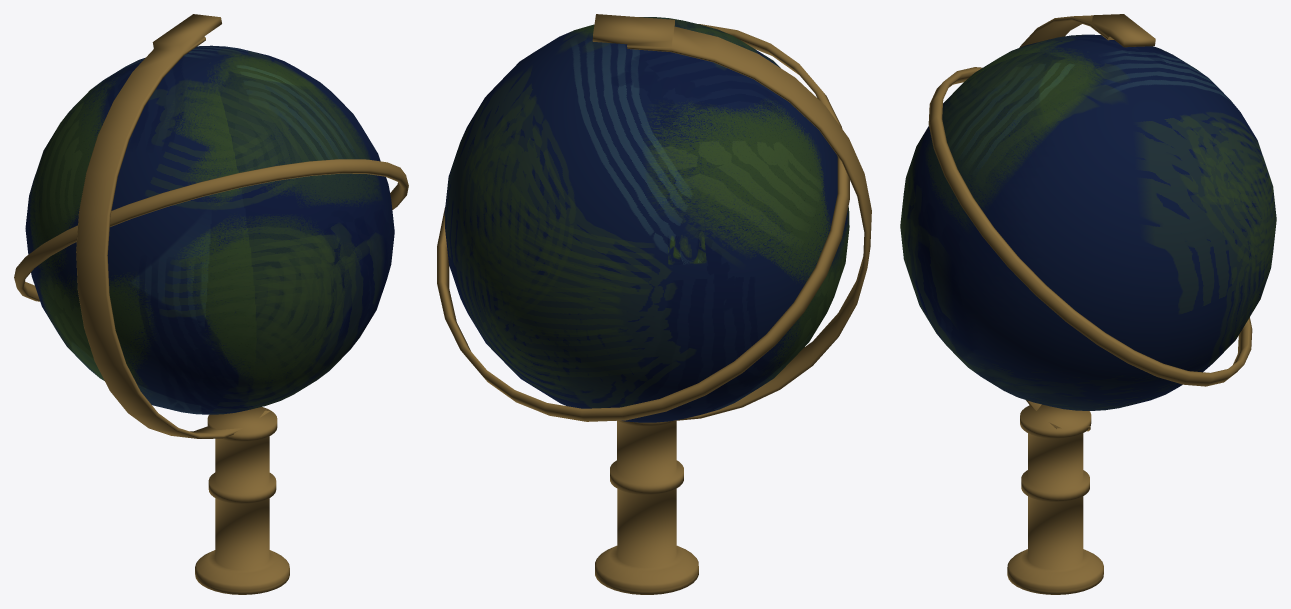
Rendered from globe.glb.
3 views of the same model, side by side, from view 1: azimuth 30°, elevation 25°; view 2: azimuth 150°, elevation 25°; view 3: azimuth 270°, elevation 25° (orthographic). The views are drawn at different scales.
Visible parts, largest first — view 1: Sphere, Cylinder.012; view 2: Sphere, Cylinder.012; view 3: Sphere, Cylinder.012.
Part boxes in pixels (box(x1,y1,x2,y2)): Sphere: box(25, 45, 394, 414); Cylinder.012: box(14, 14, 408, 594); Sphere: box(444, 17, 849, 422); Cylinder.012: box(437, 14, 871, 594); Sphere: box(900, 34, 1276, 410); Cylinder.012: box(928, 14, 1252, 594).
Bounding box in the file's own units: 1.28 × 1.85 × 1.17.
Materials: 2 (1 with a texture image).
